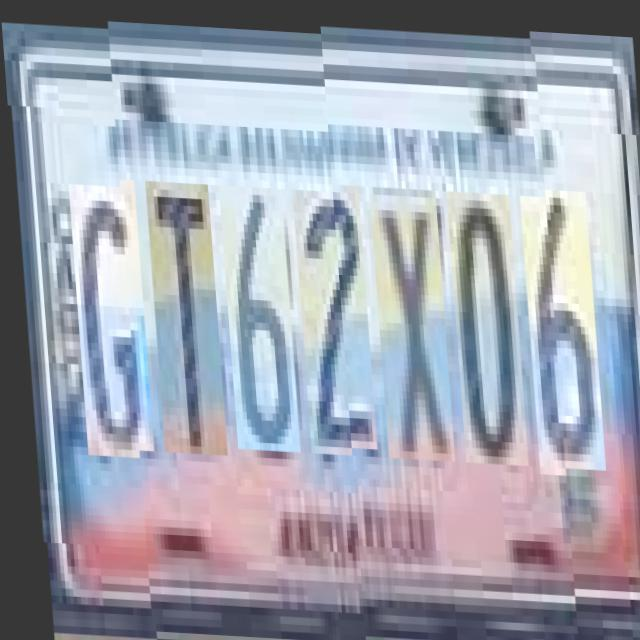2: (290, 178, 370, 446)
6: (518, 189, 600, 471), (216, 176, 294, 442)
G: (65, 168, 147, 442)
O: (444, 186, 522, 460)
T: (142, 172, 220, 446)
X: (366, 182, 448, 456)
